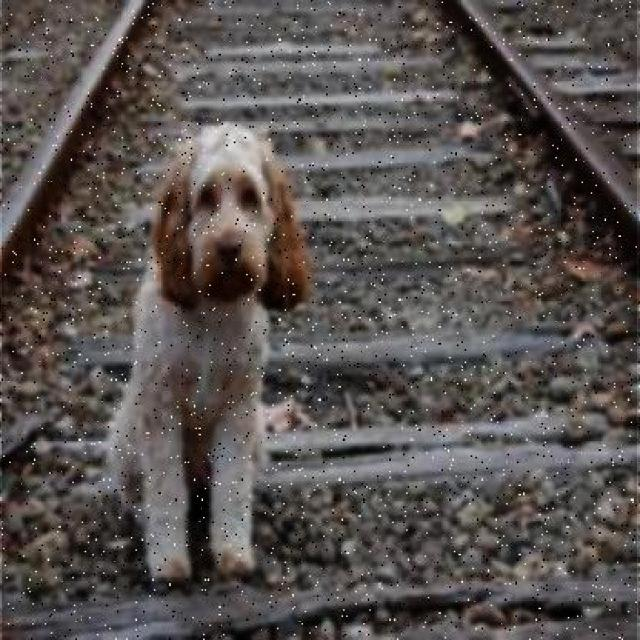rail: (4, 1, 638, 640)
